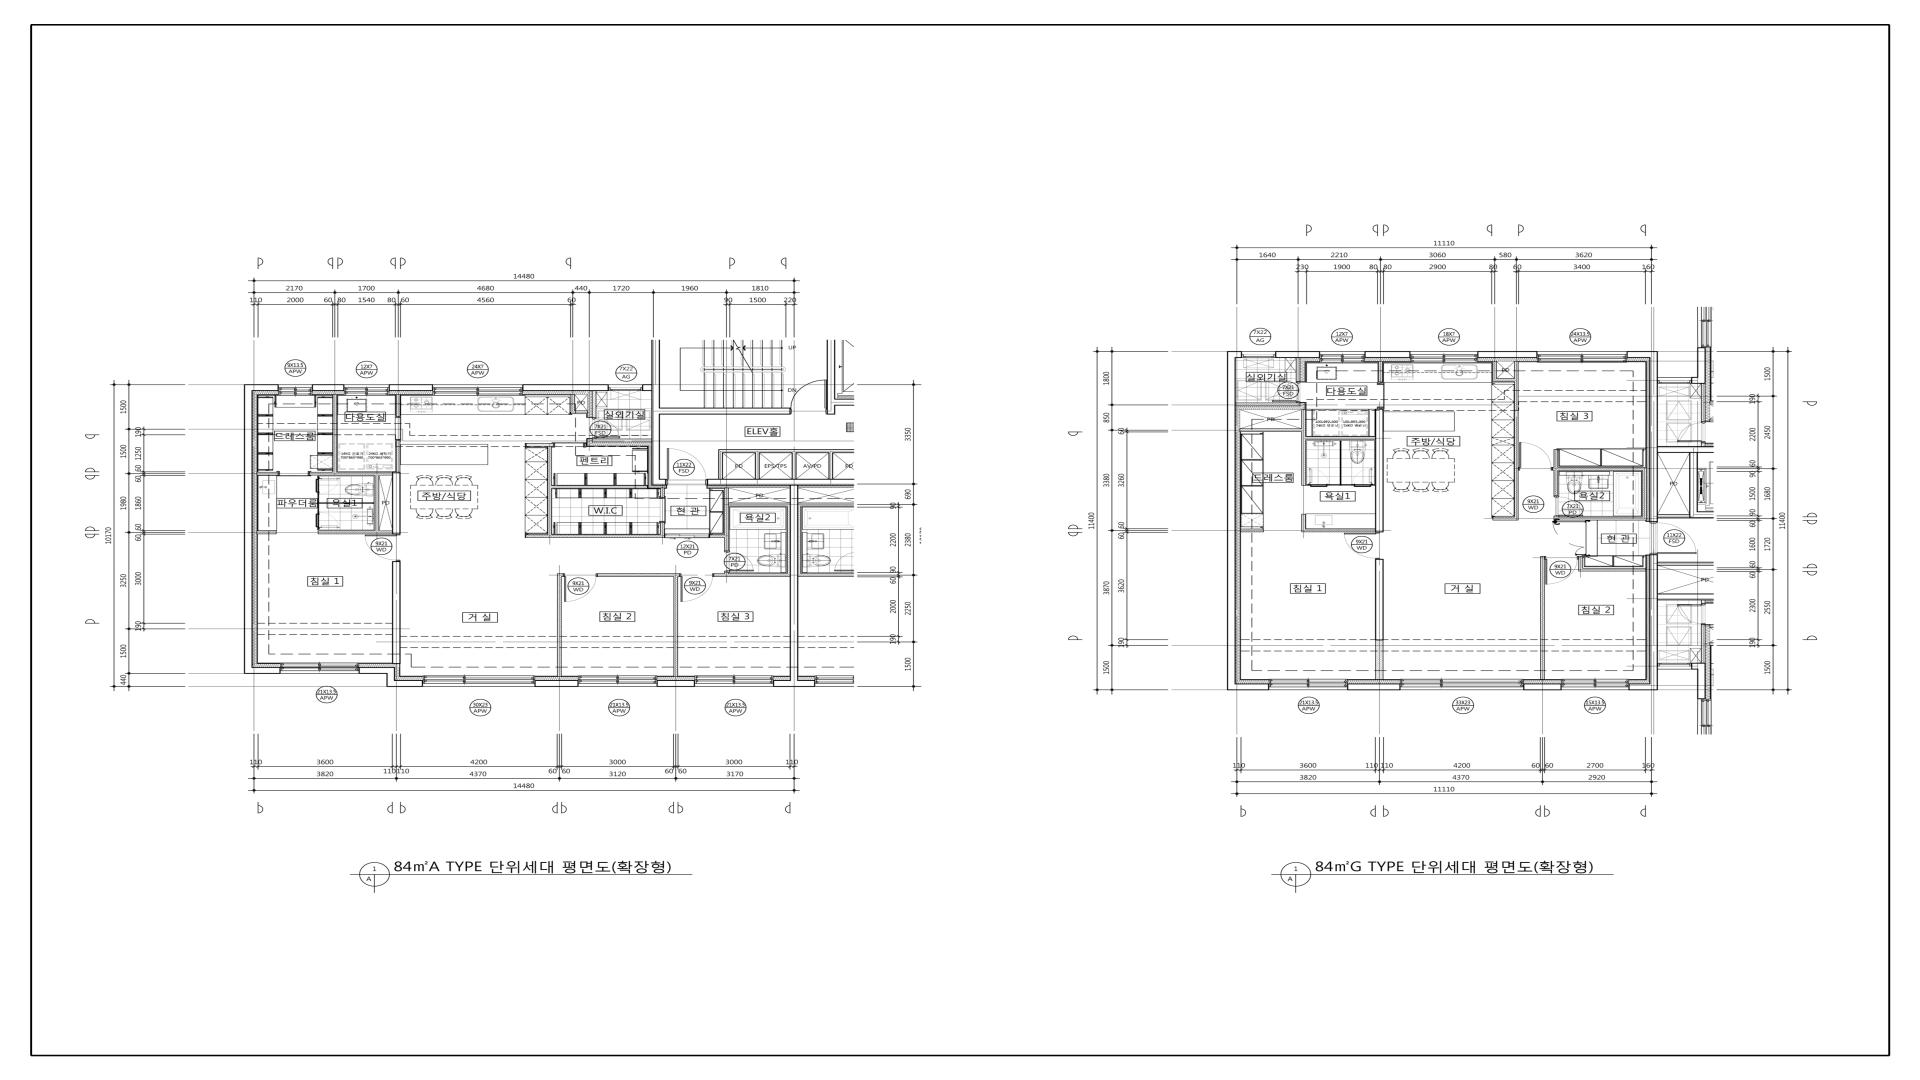door: (1650, 521, 1697, 554), (666, 448, 707, 485), (1552, 521, 1590, 556), (790, 380, 827, 414), (1518, 442, 1552, 471), (1544, 556, 1578, 585), (563, 574, 597, 601), (1344, 533, 1379, 559), (365, 534, 401, 560), (680, 574, 713, 601), (724, 551, 754, 572), (592, 418, 620, 439), (1553, 496, 1582, 516), (1273, 382, 1300, 402), (315, 475, 340, 493), (315, 513, 340, 530), (665, 534, 709, 538), (554, 442, 587, 447), (659, 497, 666, 522), (278, 471, 309, 476), (394, 417, 401, 440)
wall: (1226, 357, 1236, 684), (244, 390, 252, 674), (651, 339, 666, 485), (790, 485, 798, 687), (1650, 359, 1658, 521), (1650, 555, 1658, 683), (707, 479, 855, 485), (1375, 409, 1383, 531), (392, 560, 401, 665), (659, 407, 790, 414), (558, 574, 564, 676), (1375, 559, 1383, 641), (1514, 361, 1518, 517), (827, 340, 835, 414), (522, 384, 609, 390), (525, 534, 665, 538), (719, 450, 855, 454), (1300, 357, 1320, 382), (1553, 516, 1647, 521), (393, 472, 401, 534), (1540, 556, 1544, 679), (1477, 351, 1538, 359), (1689, 452, 1697, 512), (1658, 446, 1714, 454), (332, 394, 338, 472), (674, 576, 678, 676), (713, 572, 787, 578), (551, 485, 649, 489), (1658, 593, 1714, 600), (1348, 683, 1400, 690), (547, 447, 551, 534), (1557, 467, 1643, 471), (1365, 351, 1411, 357), (1375, 641, 1383, 679), (1523, 683, 1561, 691), (1302, 410, 1305, 485), (318, 530, 393, 534), (1275, 351, 1320, 357), (534, 680, 579, 687), (375, 475, 380, 530), (389, 385, 433, 392), (1226, 683, 1269, 690), (1305, 529, 1375, 533), (1305, 436, 1375, 440), (1642, 467, 1647, 517), (1236, 402, 1300, 406), (657, 680, 695, 687), (724, 488, 728, 551), (313, 384, 344, 392), (1240, 429, 1302, 433), (728, 502, 790, 506), (1552, 450, 1557, 496), (1627, 351, 1658, 359), (359, 667, 394, 674), (244, 384, 278, 390), (1658, 562, 1714, 566), (309, 472, 393, 475), (597, 574, 680, 576), (1629, 683, 1658, 690), (252, 667, 281, 674), (787, 506, 790, 578), (396, 680, 423, 687), (1582, 568, 1646, 571), (396, 440, 401, 472), (1689, 512, 1714, 518), (592, 439, 651, 442), (754, 452, 760, 479), (791, 452, 796, 479), (828, 452, 833, 479), (835, 398, 855, 405), (1658, 514, 1689, 518), (386, 674, 396, 687), (396, 394, 401, 417), (525, 443, 554, 447), (773, 680, 790, 687), (1378, 361, 1383, 382), (592, 390, 596, 418), (1493, 517, 1519, 521), (1226, 351, 1242, 357), (719, 454, 723, 479), (1240, 529, 1263, 533), (256, 472, 278, 476), (1493, 378, 1514, 382), (256, 530, 277, 534), (571, 394, 575, 414), (1302, 514, 1305, 533), (319, 502, 375, 504), (642, 384, 651, 392), (1493, 361, 1497, 378), (1578, 556, 1582, 571), (709, 534, 724, 538), (575, 410, 588, 414), (661, 522, 665, 534), (661, 488, 665, 497), (318, 492, 319, 513)
window: (1400, 679, 1523, 691), (423, 675, 534, 687), (433, 384, 522, 396), (1538, 352, 1627, 363), (695, 675, 773, 687), (579, 675, 657, 687), (281, 662, 359, 674), (1269, 679, 1348, 690), (1561, 679, 1629, 690), (1411, 352, 1477, 363), (1320, 351, 1365, 363), (344, 385, 389, 396), (278, 384, 313, 396), (609, 384, 642, 390), (1242, 352, 1275, 357)
